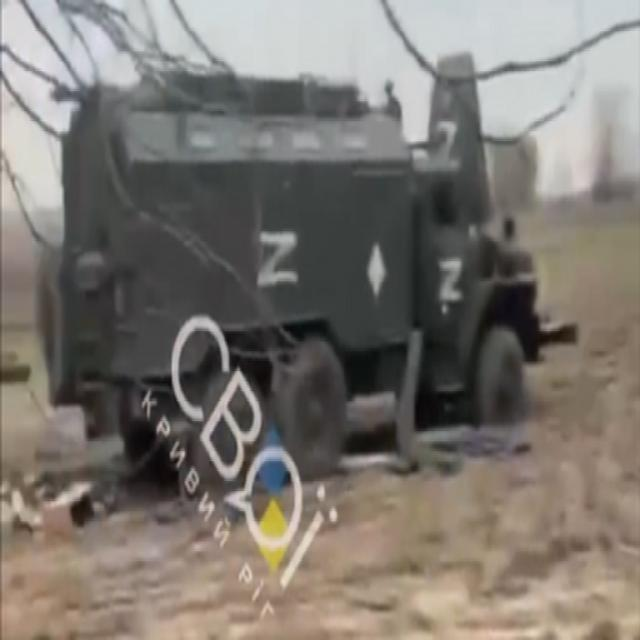TRUCK: (29, 51, 572, 476)
